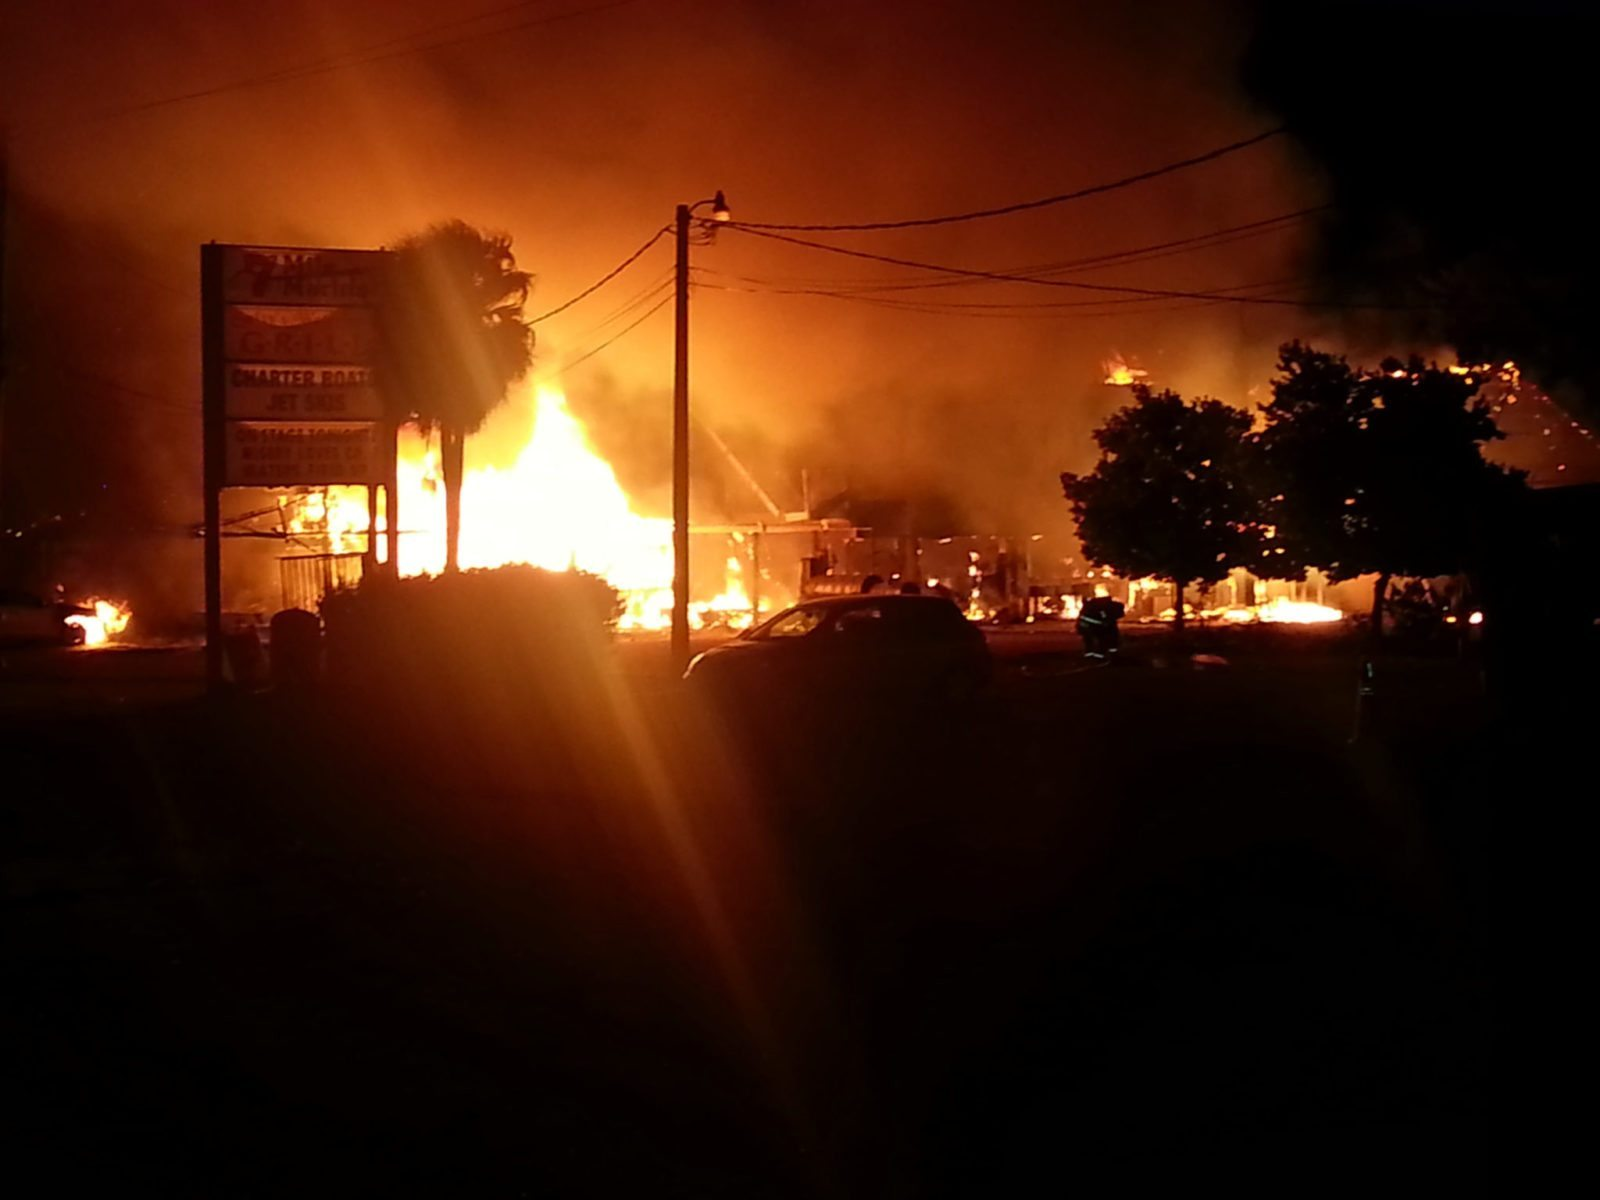Fire: (474, 431, 648, 579), (695, 548, 769, 637), (1214, 590, 1346, 626), (81, 596, 141, 645), (1099, 345, 1157, 387)
